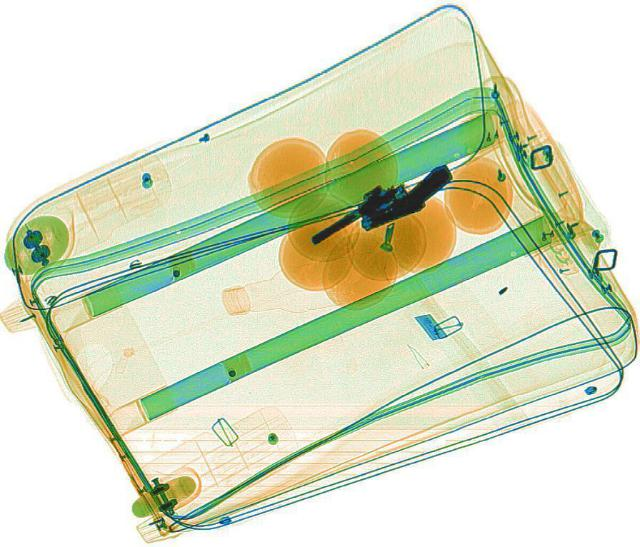Gun: (302, 173, 414, 250), (346, 162, 462, 228)
